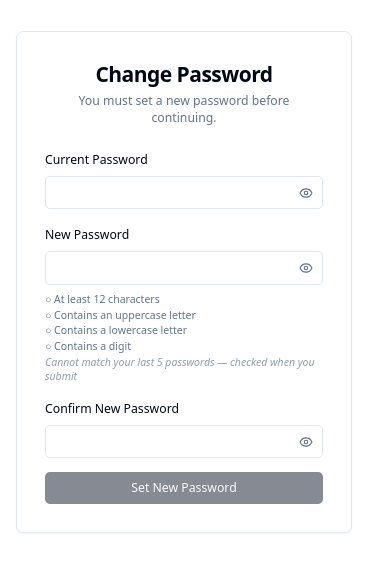
Test: server errors › still surfaces the policy 400's per-rule list
Type "old" into the password field labelled "Current Password" at (184, 193), box [45, 176, 323, 209]
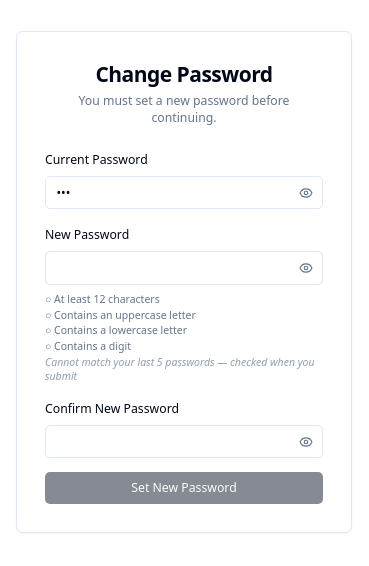
Type "Abcdefghij12" into the password field labelled "New Password" at (184, 268), box [45, 251, 323, 285]
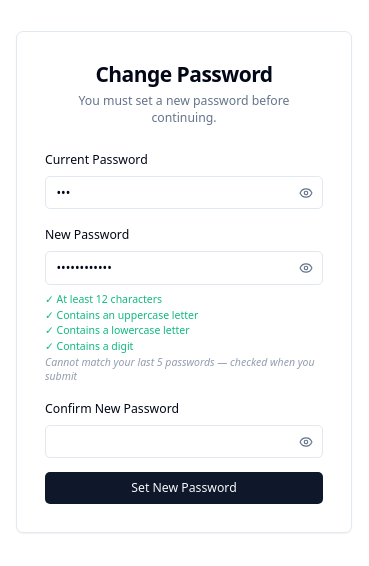
Type "Abcdefghij12" into the password field labelled "Confirm New Password" at (184, 442), box [45, 425, 323, 458]
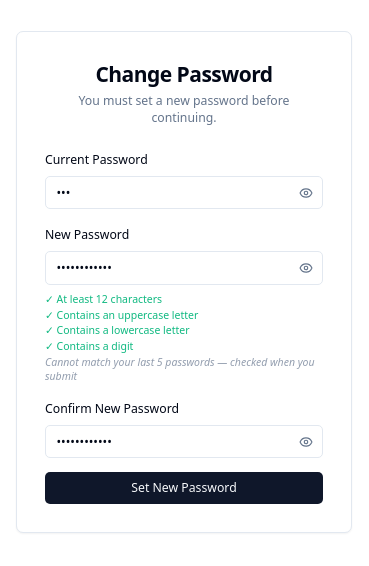
Click the button "Set New Password" at (184, 488), box [45, 472, 323, 504]
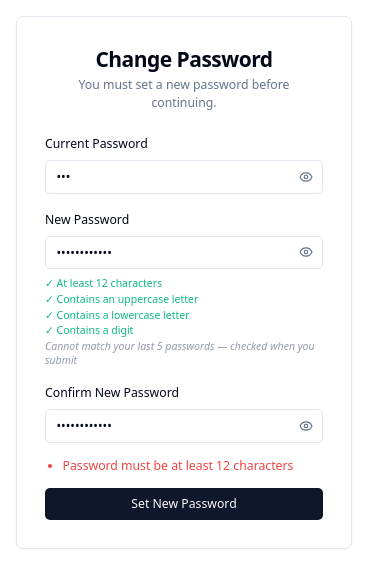
Expected: the list item "Password must be at least 12 characters" is shown, [62, 456, 323, 474]
